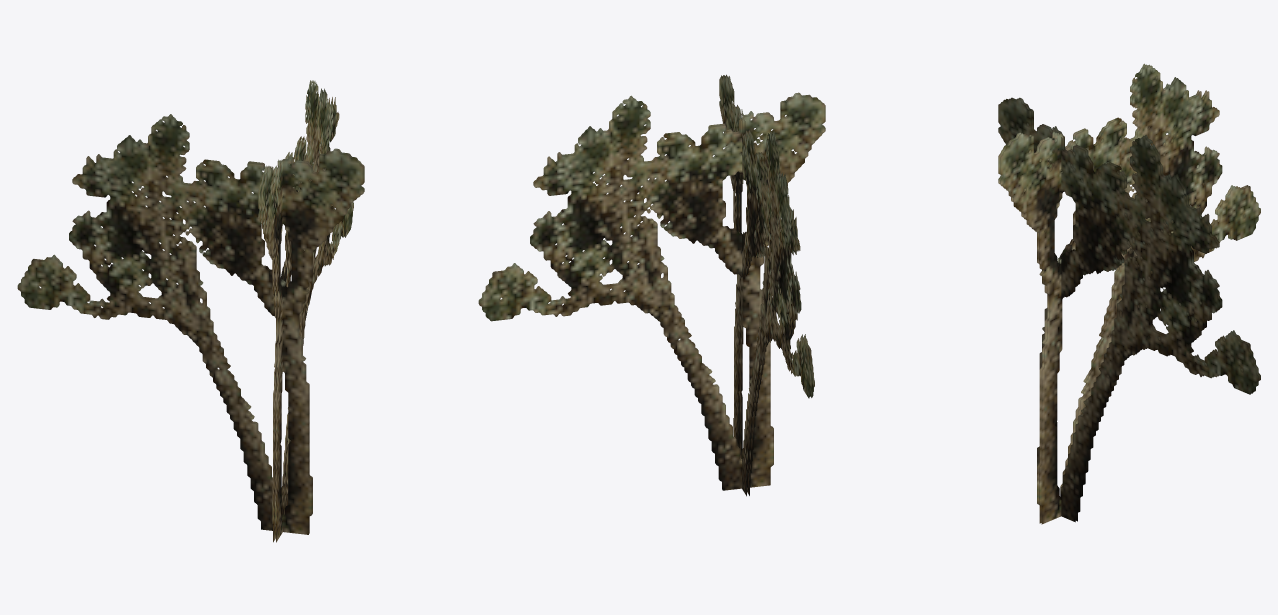
Rendered from tree050.fbx.
3 renders of one model, left to right at view 1: azimuth 30°, elevation 25°; view 2: azimuth 150°, elevation 25°; view 3: azimuth 270°, elevation 25°, orthographic. The views are drawn at different scales.
Parts seen in each view (by area): view 1: tree050; view 2: tree050; view 3: tree050.
Part boxes in pixels (x1,y1,x2,y2): tree050: (17,80,364,542); tree050: (478,74,825,496); tree050: (998,63,1260,524).
Size of the model in its own units: 240 by 282 by 194.
1 material, 1 textured.
